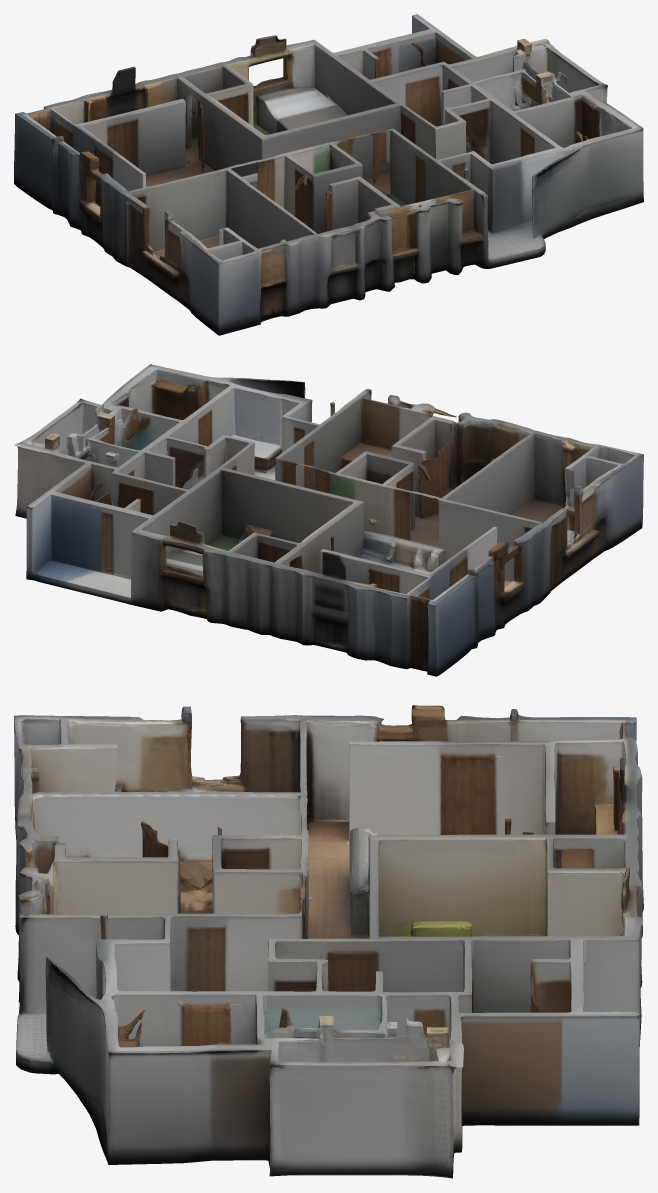
3 views of the same model, one above another, from view 1: azimuth 30°, elevation 25°; view 2: azimuth 150°, elevation 25°; view 3: azimuth 270°, elevation 25° (orthographic). The views are drawn at different scales.
Visible parts, largest first — view 1: world; view 2: world; view 3: world.
Boxes of the visible parts, x1=… form: world: x1=14, y1=14, x2=643, y2=335; world: x1=14, y1=364, x2=643, y2=676; world: x1=14, y1=705, x2=643, y2=1178.
Size of the model in its own units: 0.9979 by 0.1883 by 0.7478.
1 material, 1 textured.
